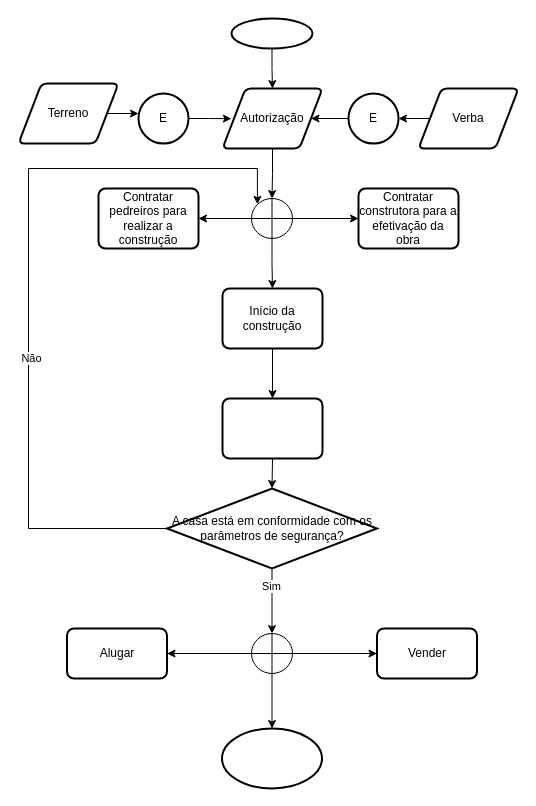
The diagram is 536 pixels wide and 806 high, and some of its shapes have lost their labels. The shapes that lost their labels are listed below. From the top down, each one's box as (x1, y1, x2, y2) in pixels, then its label:
(230, 17, 313, 49): INICIO
(221, 397, 323, 459): Verificar adequação e segurança
(220, 727, 322, 789): FIM
